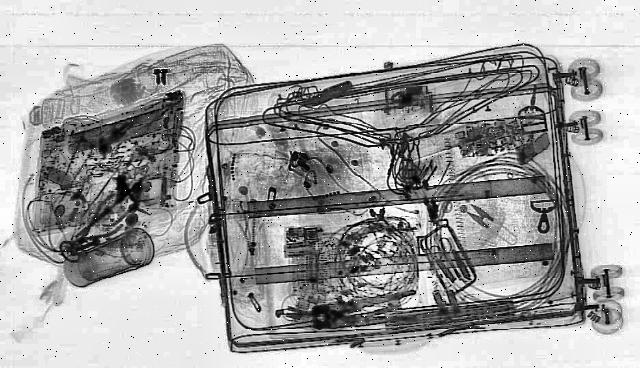Pliers: (304, 288, 431, 332)
